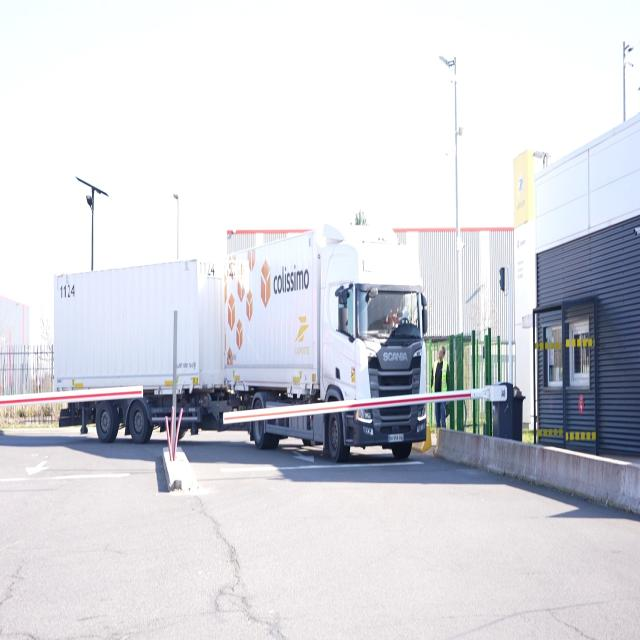Code: (56, 279, 82, 302)
